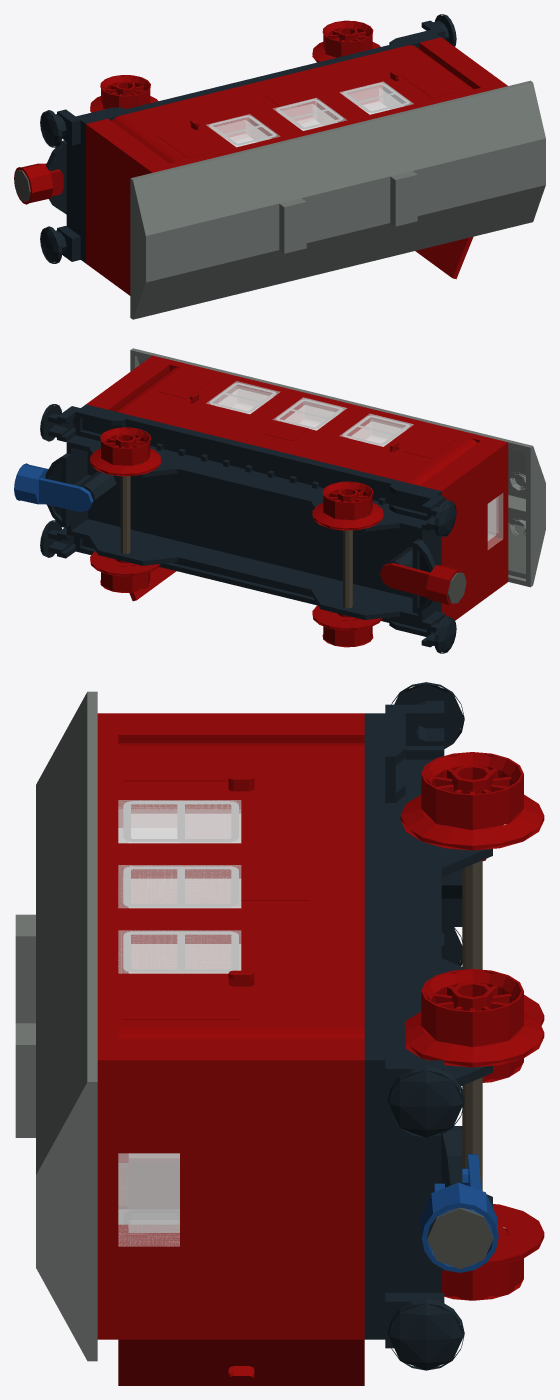
File: coach.glb
3 renders of one model, top to bottom at view 1: azimuth 30°, elevation 25°; view 2: azimuth 150°, elevation 25°; view 3: azimuth 270°, elevation 25°, orthographic. The views are drawn at different scales.
Bounding box in the file's own units: 157 × 65.81 × 82.4.
